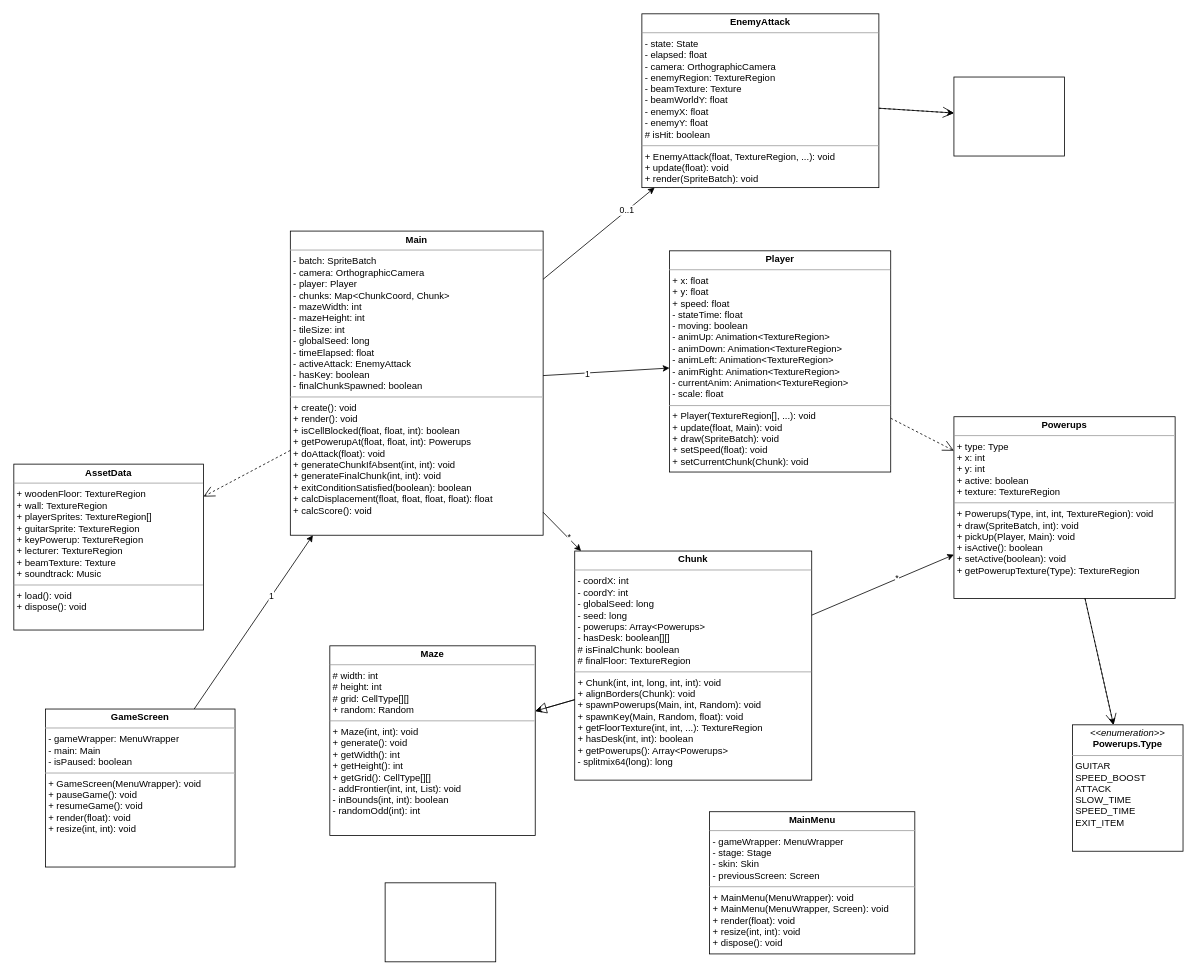
Some shapes in this 1197 by 976 pixel diagram are drawn without their labels. Each missing label, with the centre of its shape:
"<<enumeration>> CellType BLOCKED PASSAGE" belongs at (440,922).
"<<enumeration>> EnemyAttack.State TELL DASH DONE" belongs at (1009,116).
